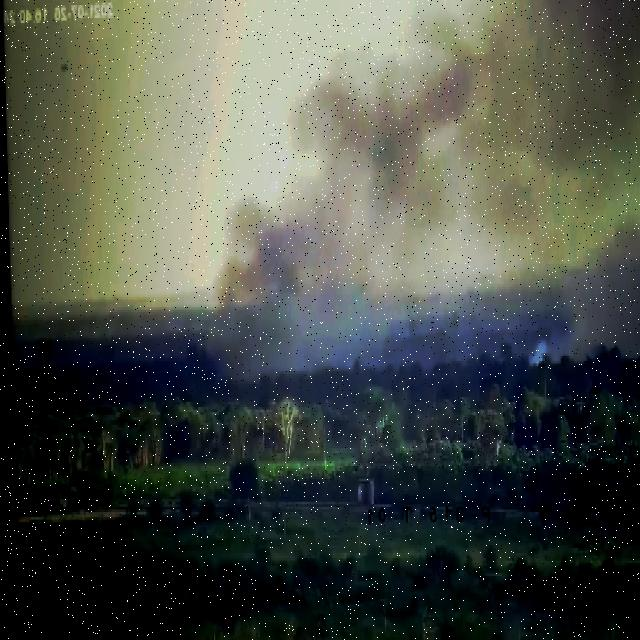asap: (198, 1, 640, 429), (525, 204, 640, 380)
